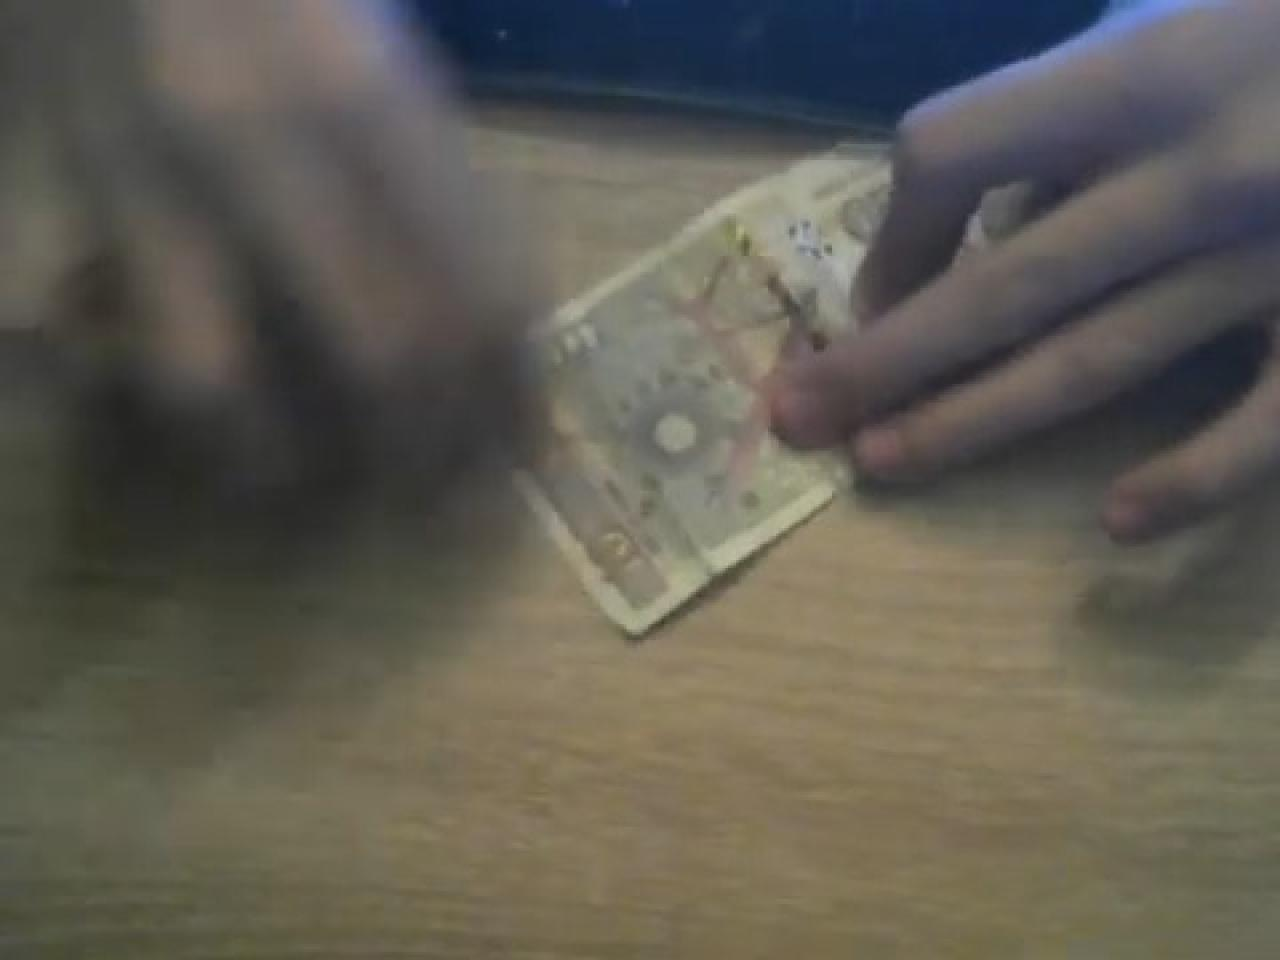10leva: (520, 144, 893, 645)
